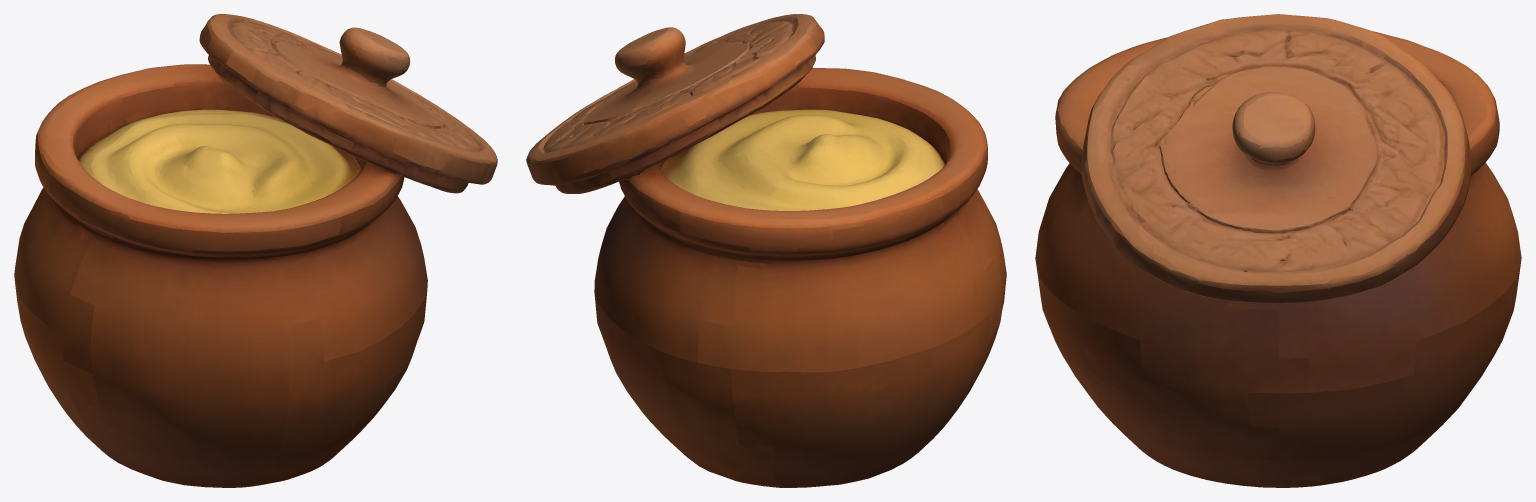
File: shea_pot.glb
3 views of the same model, side by side, from view 1: azimuth 30°, elevation 25°; view 2: azimuth 150°, elevation 25°; view 3: azimuth 270°, elevation 25° (orthographic). The views are drawn at different scales.
Visible parts, largest first — view 1: geometry_0; view 2: geometry_0; view 3: geometry_0.
Boxes of the visible parts, x1,y1,x2,y2 form: geometry_0: [14, 14, 497, 487]; geometry_0: [526, 14, 1006, 487]; geometry_0: [1035, 14, 1521, 487].
Bounding box in the file's own units: 0.12 × 0.1051 × 0.1074.
Materials: 1 (1 with a texture image).
